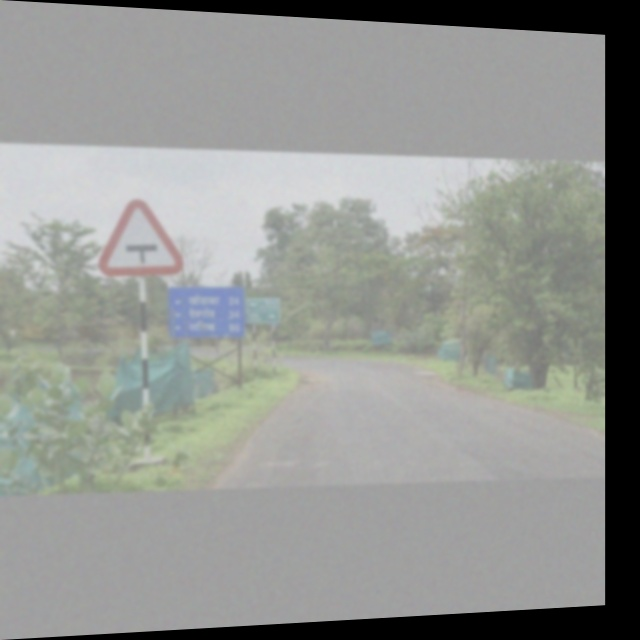T_Intersection: (91, 189, 192, 282)
